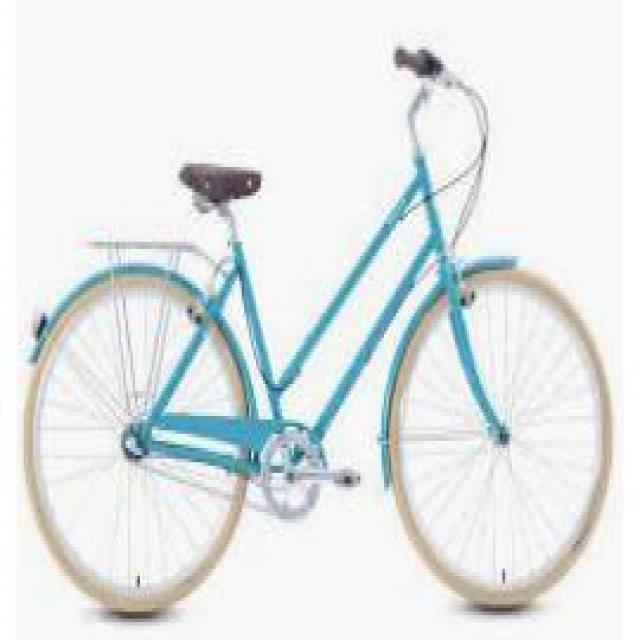bicycle: (23, 40, 625, 620)
